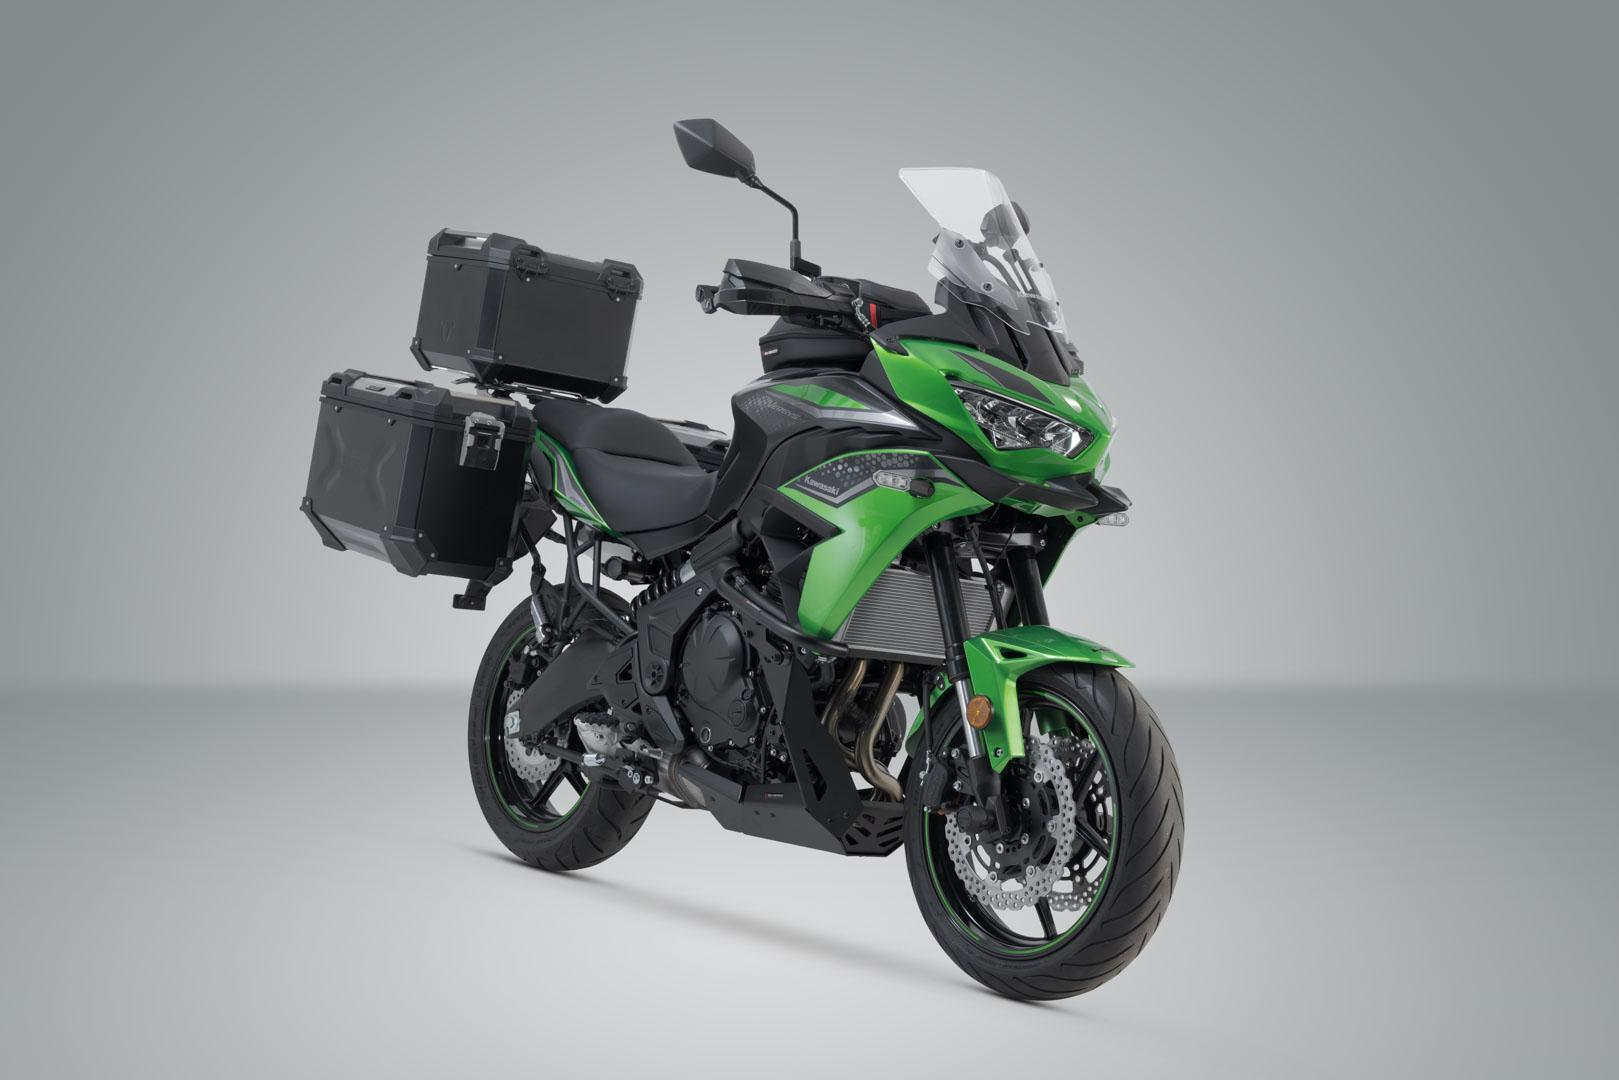engine-chasis: (667, 593, 904, 856), (541, 697, 693, 809), (620, 516, 763, 629), (873, 694, 907, 768)
exhaust: (819, 658, 904, 803), (651, 745, 717, 811), (576, 726, 624, 771)
frontside: (711, 166, 1136, 844)
handlebar: (673, 118, 876, 348), (1010, 201, 1031, 236), (935, 282, 949, 312)
rearside: (298, 228, 762, 755), (650, 417, 732, 474)
seat: (530, 399, 718, 533)
tank: (706, 316, 943, 522), (855, 278, 933, 329)
wheel: (904, 663, 1186, 1002), (468, 595, 657, 871), (958, 516, 1008, 630)
